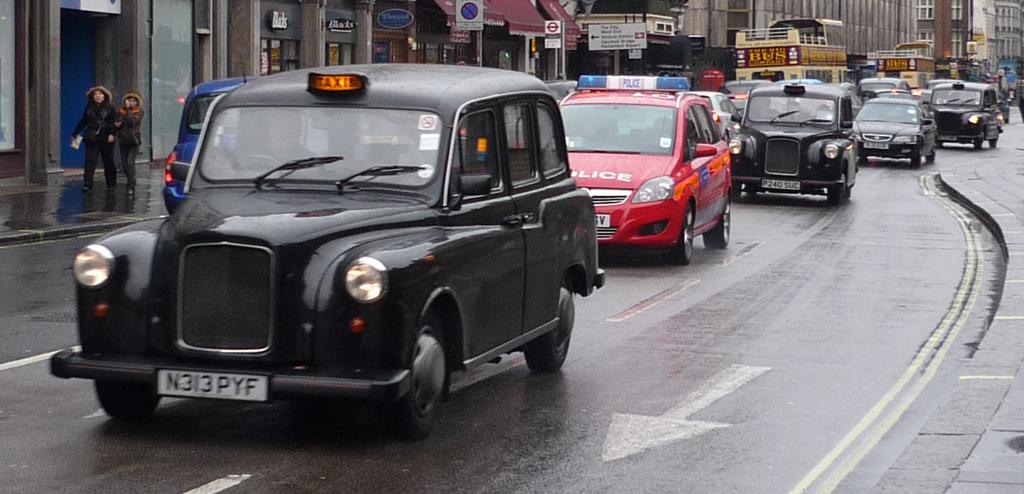taxi: (49, 64, 607, 444), (730, 84, 857, 205), (928, 83, 1004, 152)
